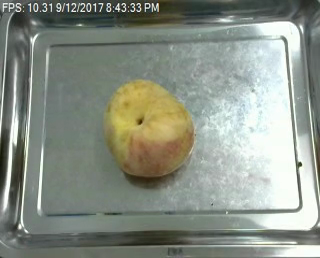Peach: (102, 79, 194, 177)
